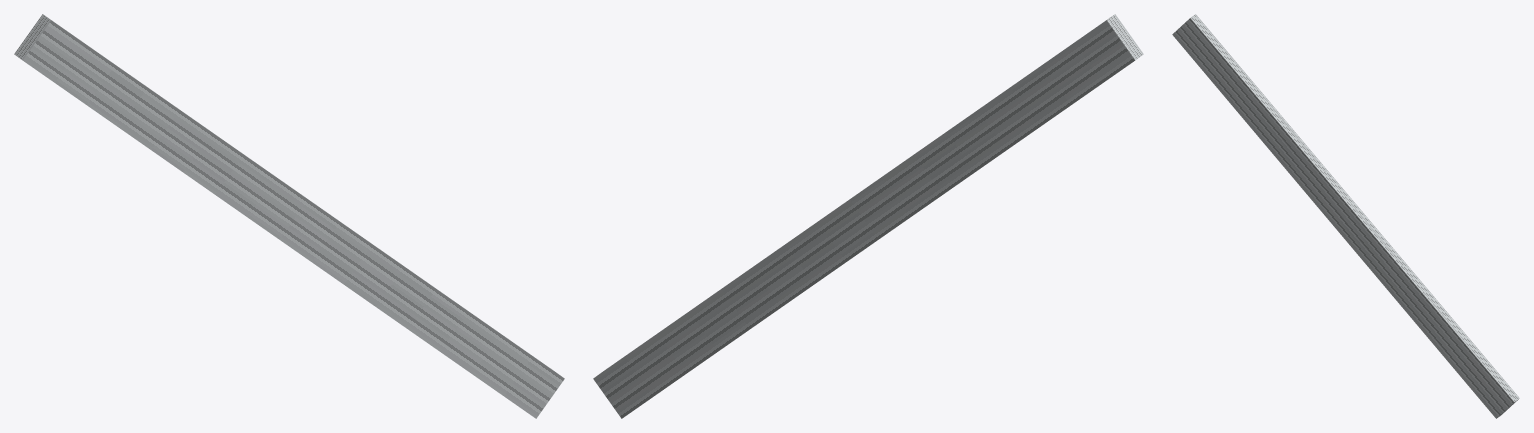
Rendered from aluminium_leaf_1_5_strut_b.obj.
3 renders of one model, left to right at view 1: azimuth 30°, elevation 25°; view 2: azimuth 150°, elevation 25°; view 3: azimuth 330°, elevation 25°, orthographic. The views are drawn at different scales.
Visible parts, largest first — view 1: aluminium_leaf_1_5_strut_b; view 2: aluminium_leaf_1_5_strut_b; view 3: aluminium_leaf_1_5_strut_b.
Part boxes in pixels (x1,y1,x2,y2): aluminium_leaf_1_5_strut_b: (14,14,564,418); aluminium_leaf_1_5_strut_b: (593,14,1143,418); aluminium_leaf_1_5_strut_b: (1172,14,1519,418).
Bounding box in the file's own units: 0.7918 × 0.7215 × 0.0219.
